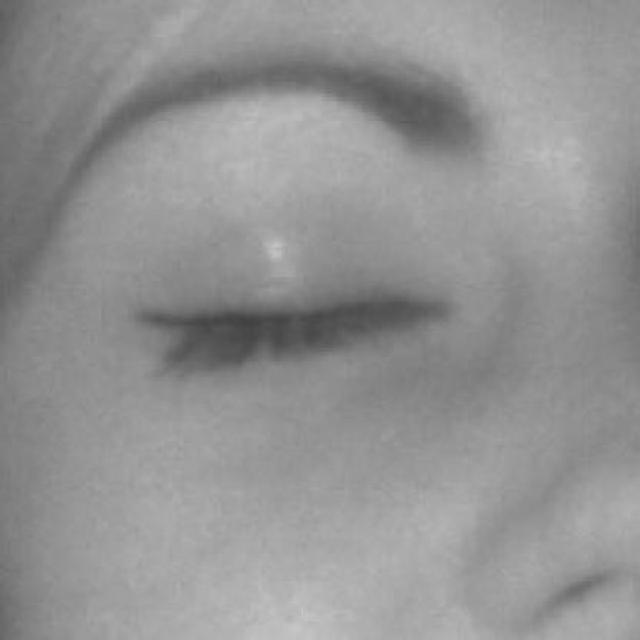drowsy: (117, 188, 455, 468)
